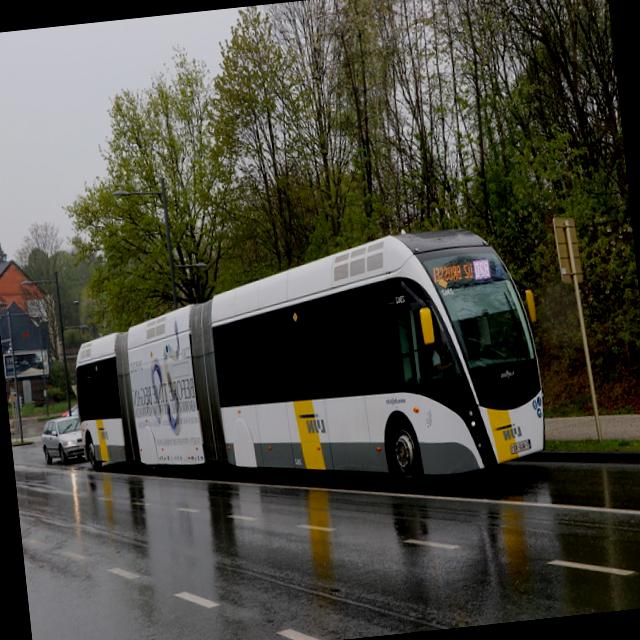bus-number: (473, 258, 490, 280)
